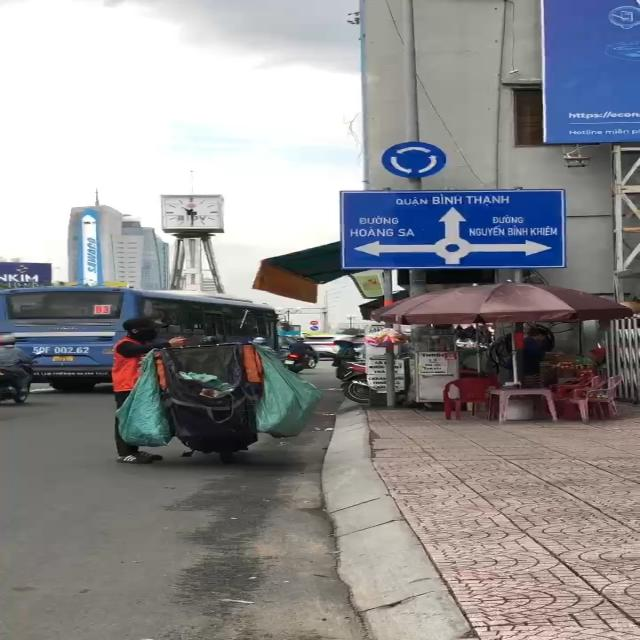Bien bao noi giao nhau chay theo vong xuyen: (374, 140, 452, 181)
